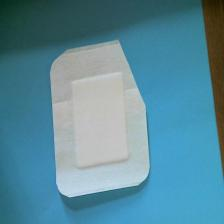Cut: (49, 36, 159, 204)
